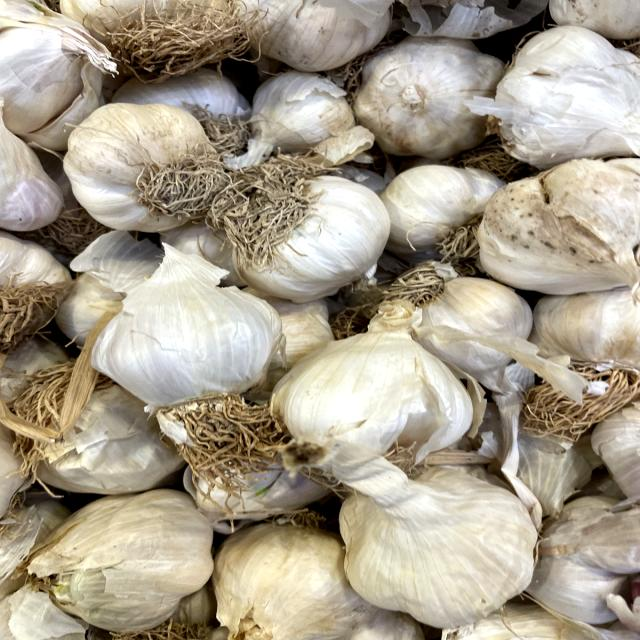garlic: (72, 253, 296, 481), (313, 443, 567, 634), (208, 151, 409, 302), (44, 93, 235, 240)
